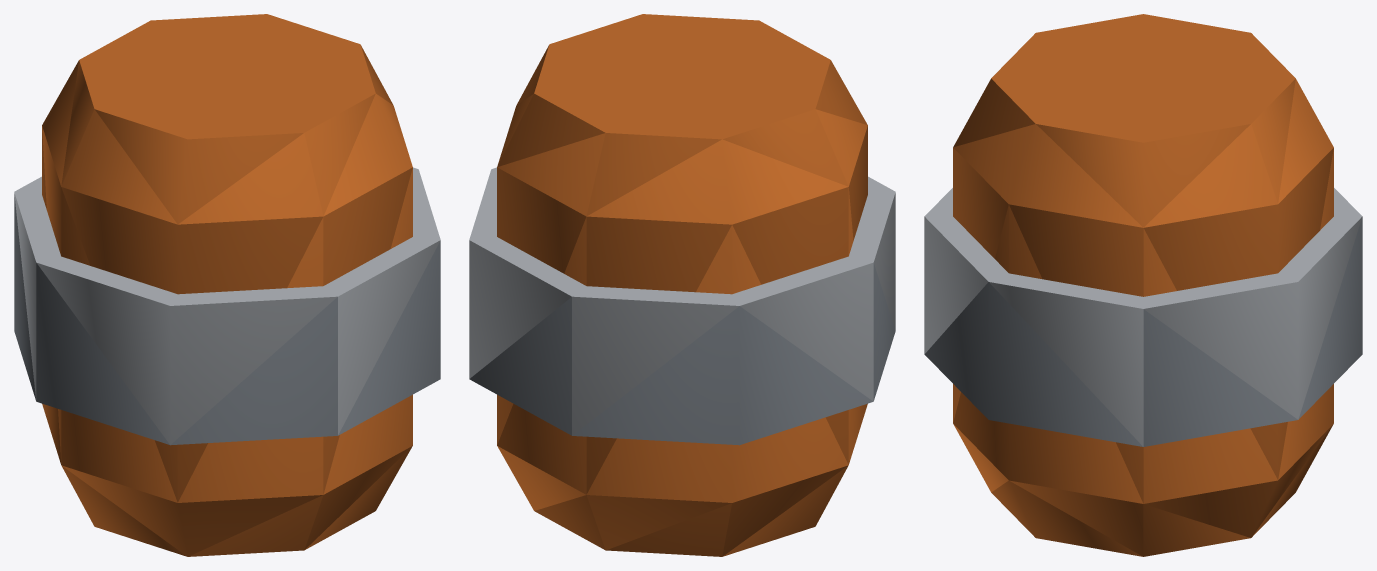
File: Kit_container.fbx
3 renders of one model, left to right at view 1: azimuth 30°, elevation 25°; view 2: azimuth 150°, elevation 25°; view 3: azimuth 270°, elevation 25°, orthographic.
Visible parts, largest first — view 1: Kit_container; view 2: Kit_container; view 3: Kit_container.
Part boxes in pixels (x1,y1,x2,y2): Kit_container: (14,14,440,556); Kit_container: (469,14,895,556); Kit_container: (924,14,1362,556).
Bounding box in the file's own units: 0.575 × 0.6 × 0.575.
